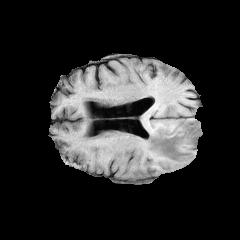glioma: (147, 119, 202, 162)
